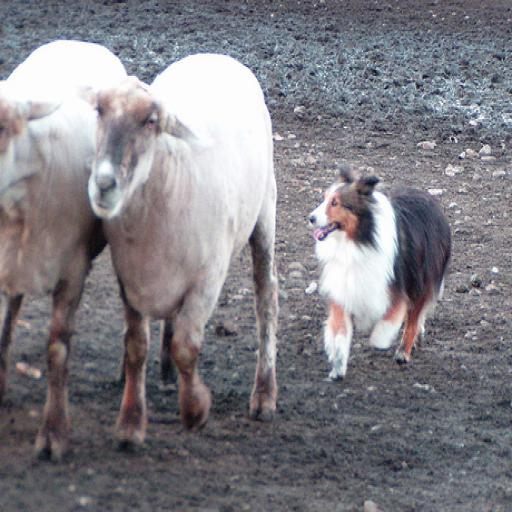dog_face: (309, 167, 374, 251)
